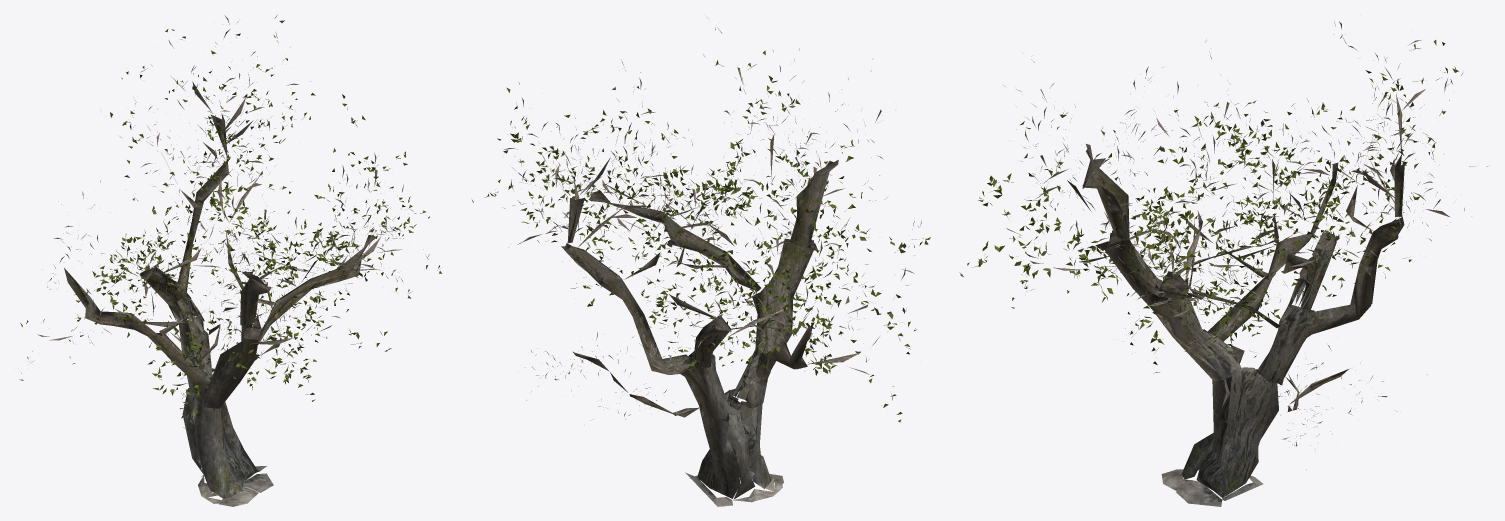
File: island_tree_01_lod1.glb
The picture shows the model from 3 angles, left to right: view 1: azimuth 30°, elevation 25°; view 2: azimuth 150°, elevation 25°; view 3: azimuth 270°, elevation 25°; orthographic projection. The views are drawn at different scales.
Parts seen in each view (by area): view 1: island_tree_01_LOD0; view 2: island_tree_01_LOD0; view 3: island_tree_01_LOD0.
Boxes of the visible parts, <box> form: island_tree_01_LOD0: <box>19,15,441,506</box>; island_tree_01_LOD0: <box>472,17,930,506</box>; island_tree_01_LOD0: <box>959,21,1489,506</box>.
Size of the model in its own units: 4.64 by 4.86 by 4.7.
Materials: 3 (3 with a texture image).
